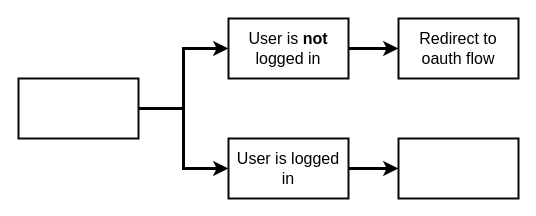
Image size: 536x216. Some labels were removed from this diagram. The box of each missing label's shape, as (x1, y1, x2, y2) in pixels:
/admins: (17, 77, 139, 139)
Show /admins page: (397, 137, 519, 199)
